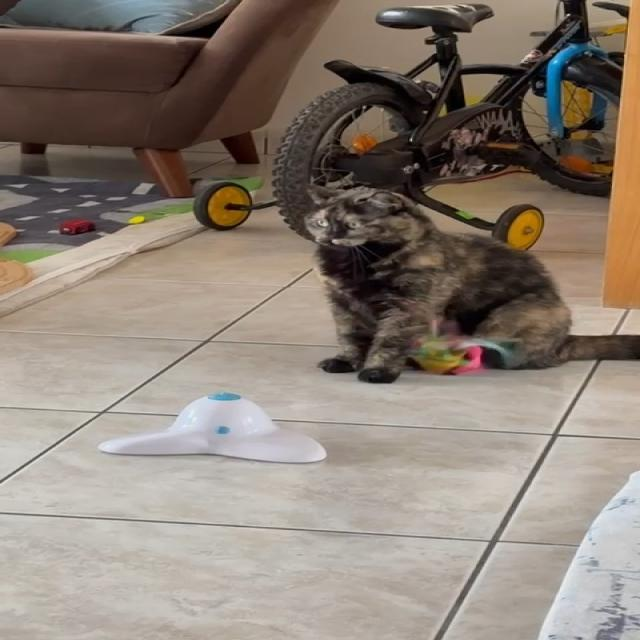authorized: (298, 182, 638, 383)
